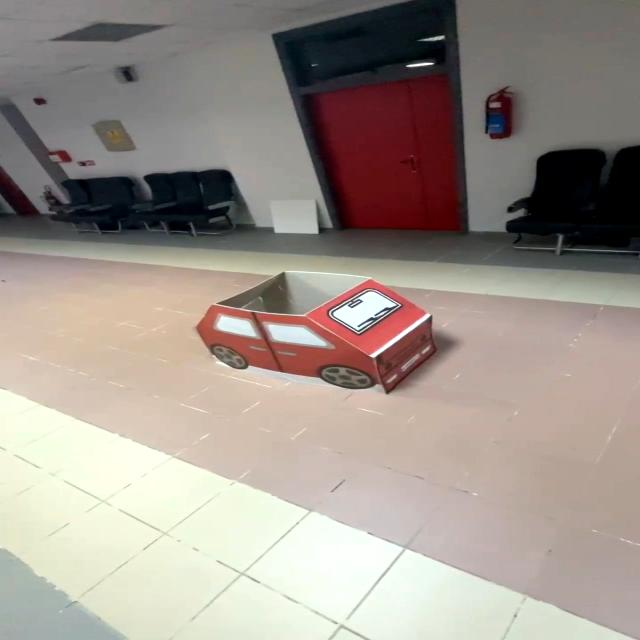red_car: (178, 259, 446, 410)
